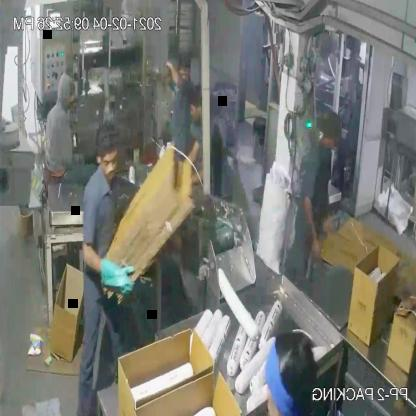glove: (92, 250, 139, 304)
no_glove: (300, 183, 329, 268), (178, 137, 203, 172), (161, 60, 183, 89), (188, 156, 206, 186)
